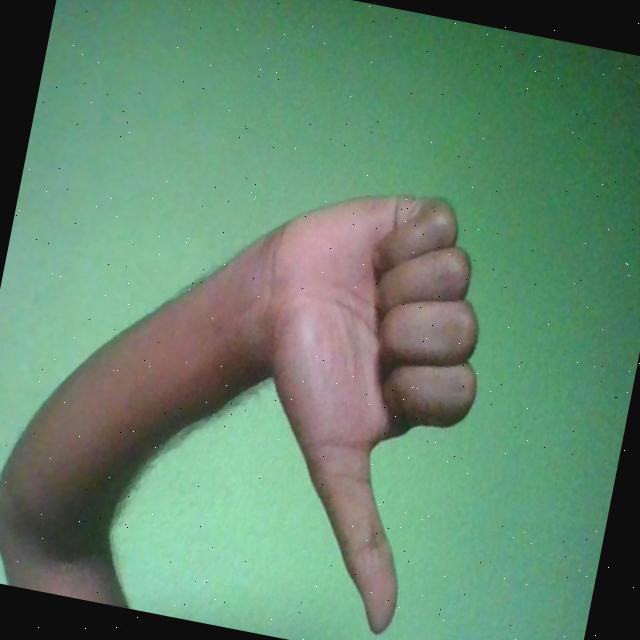Dislike: (201, 166, 512, 640)
